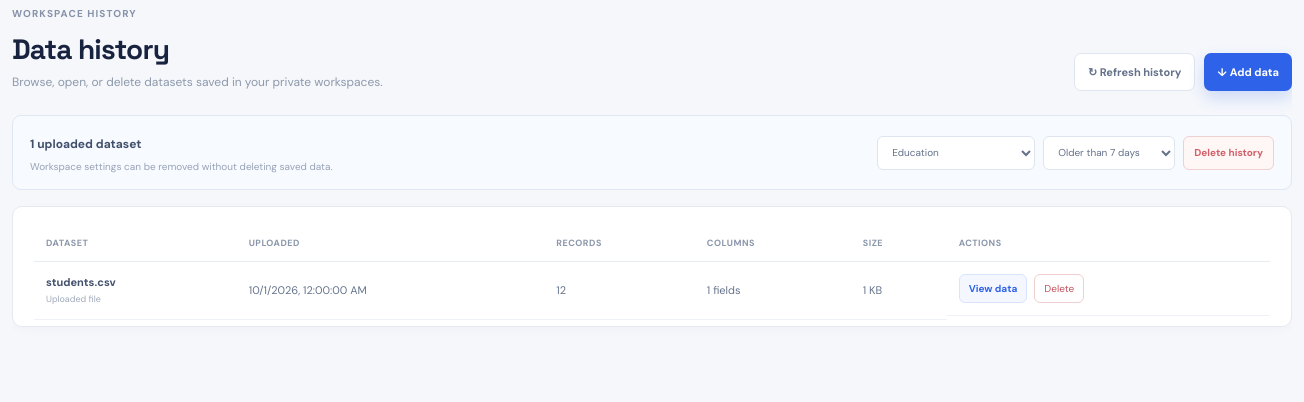
Test: keeps datasets from deleted workspaces available in all-workspaces history
The width and height of the screenshot is (1304, 402).
Expected: the text "students.csv" is shown, [46,274,116,288]
Expected: the text "visits.csv" is not shown
Select "All workspaces" in the dropdown named "Filter history by workspace" at (956, 152), box [877,136,1035,170]
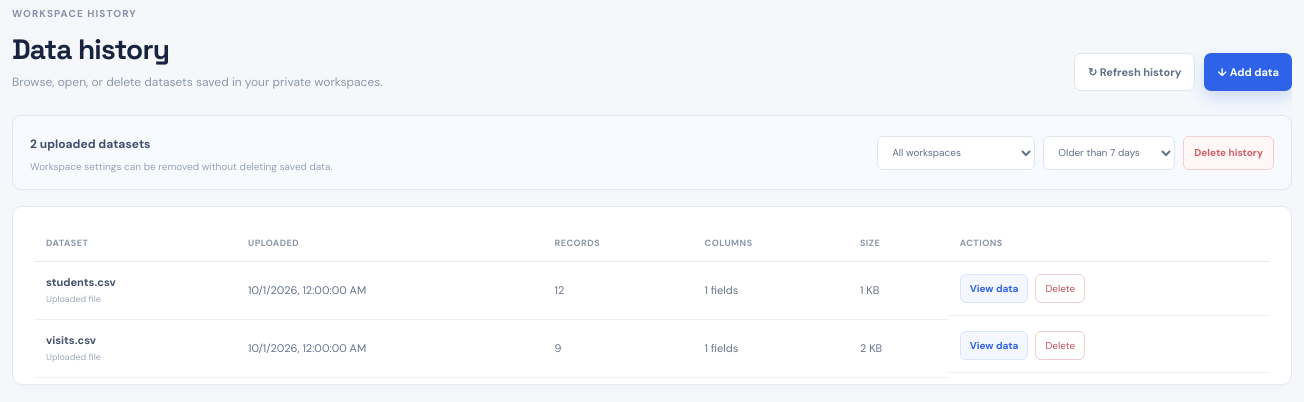
Now the text "visits.csv" is shown, box [46,332,96,346]
